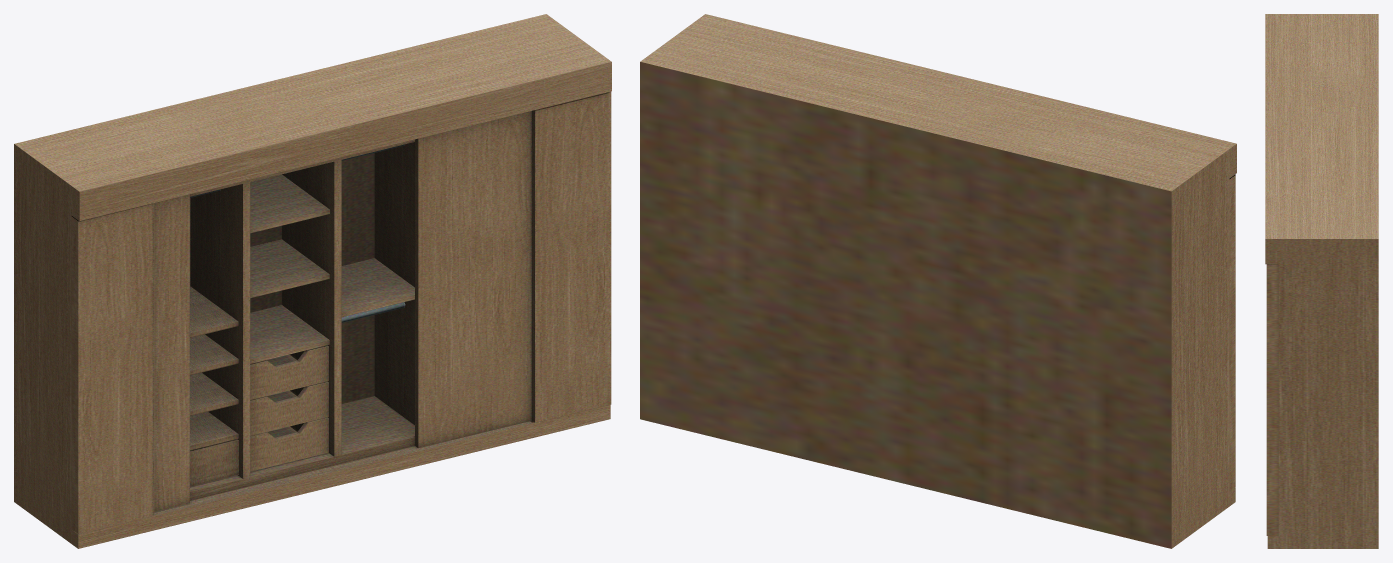
Rendered from Sun_0103_Built_in_wardrobe.fbx.
The picture shows the model from 3 angles, left to right: view 1: azimuth 30°, elevation 25°; view 2: azimuth 150°, elevation 25°; view 3: azimuth 270°, elevation 25°; orthographic projection. The views are drawn at different scales.
Parts seen in each view (by area): view 1: Sun_0103_Built_in_wardrobe; view 2: Sun_0103_Built_in_wardrobe; view 3: Sun_0103_Built_in_wardrobe.
Boxes of the visible parts, x1,y1,x2,y2 form: Sun_0103_Built_in_wardrobe: (14, 14, 611, 548); Sun_0103_Built_in_wardrobe: (640, 14, 1236, 548); Sun_0103_Built_in_wardrobe: (1265, 14, 1378, 548).
Size of the model in its own units: 350 by 225 by 74.44.
1 material, 1 textured.
